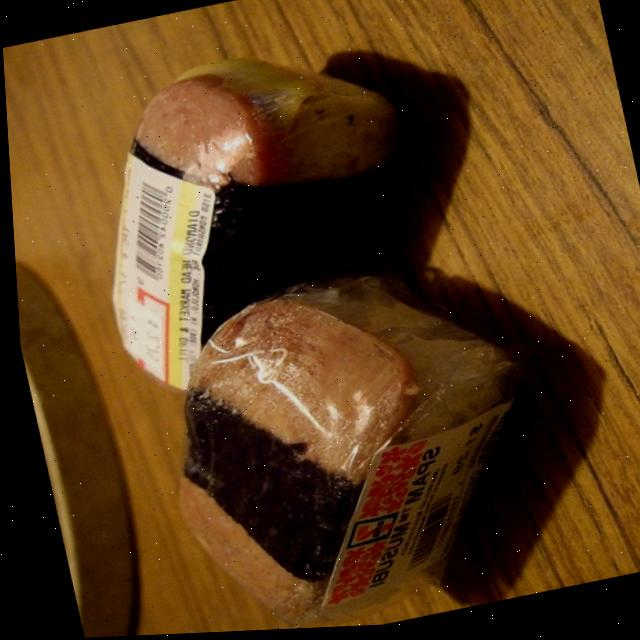寿司卷物: (42, 0, 577, 639)
